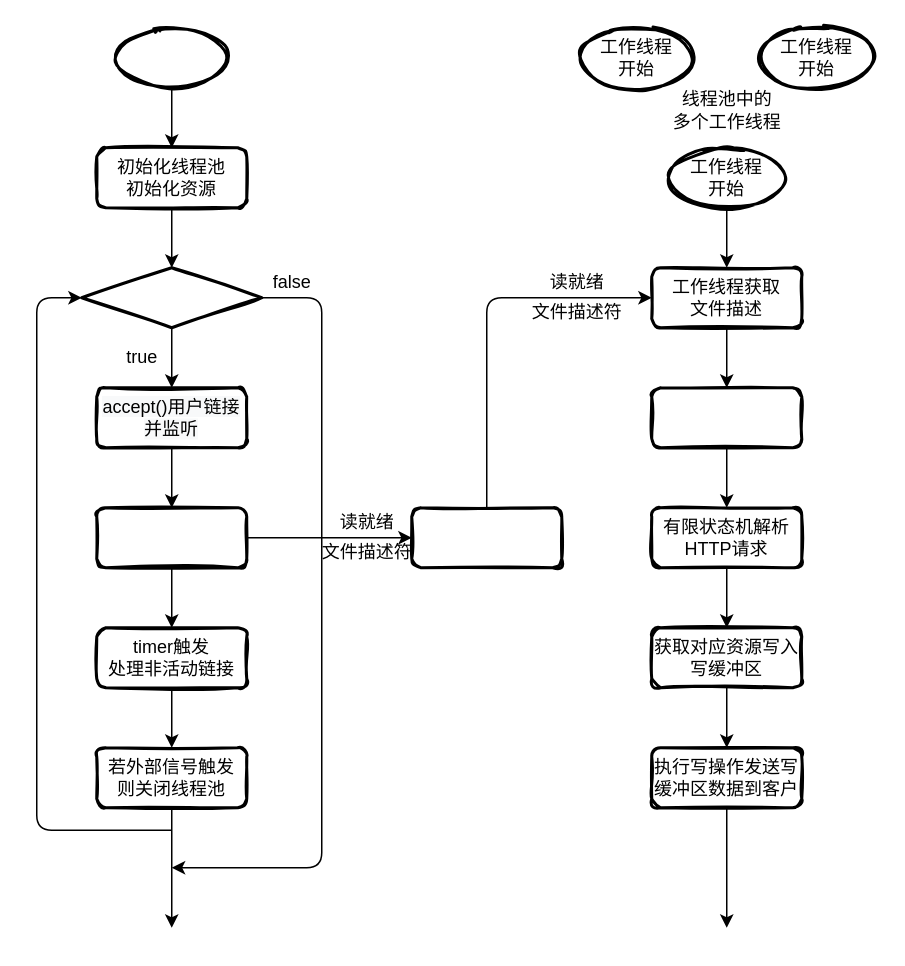
Image size: 905x966. Some labels were removed from this diagram. Each missing label, with the centre of its shape:
"主线程 开始" belongs at (171,57).
"执行读操作获取 数据到读缓冲区" belongs at (726,417).
"插入任务队列 唤醒工作线程" belongs at (486,537).
"线程池是否开启" belongs at (171,297).
"获取读就绪事件" belongs at (171,537).
